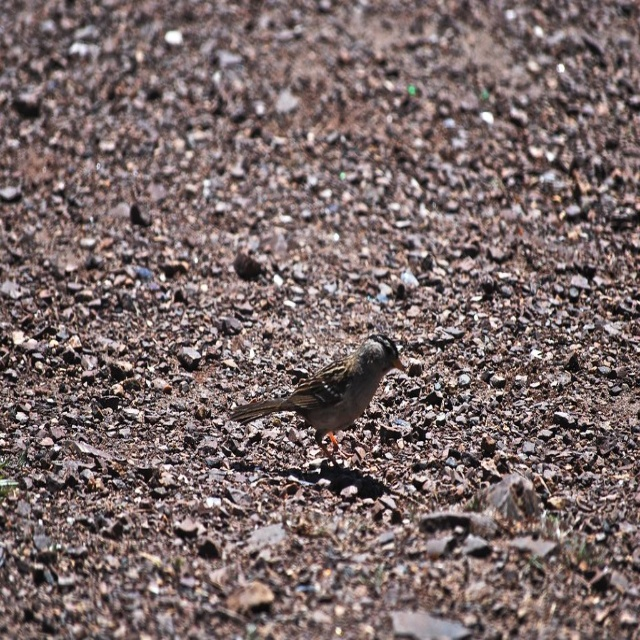Sparrow: (231, 335, 399, 469)
